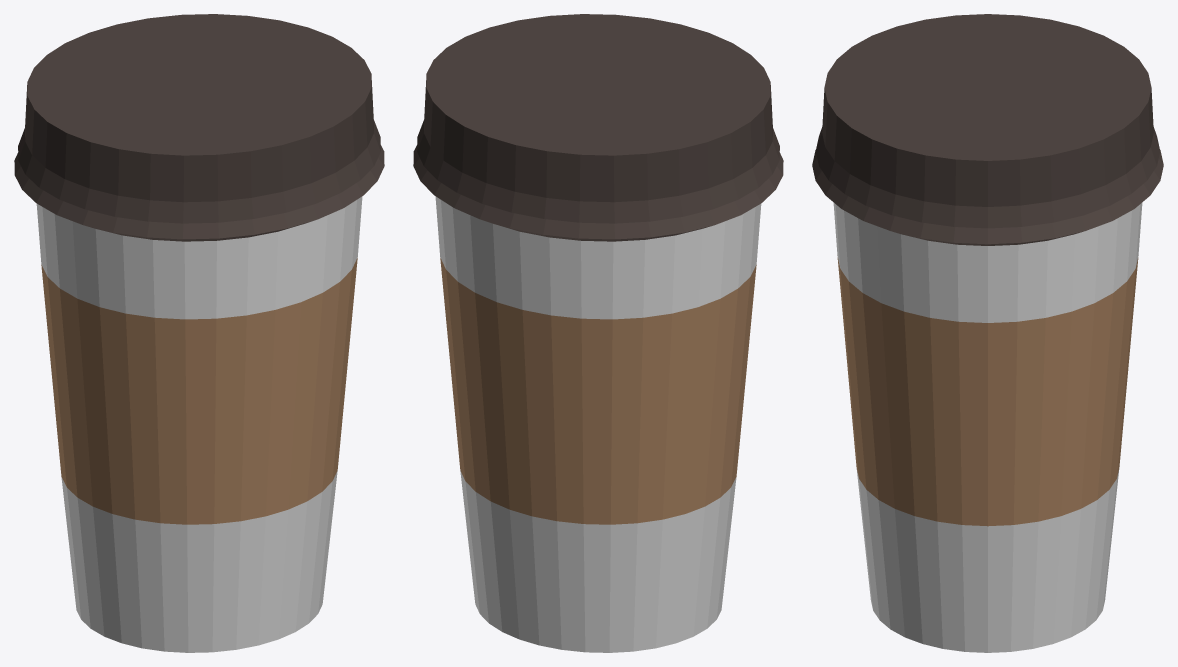
The model's file is Cafe.fbx.
3 renders of one model, left to right at view 1: azimuth 30°, elevation 25°; view 2: azimuth 150°, elevation 25°; view 3: azimuth 270°, elevation 25°, orthographic.
Parts seen in each view (by area): view 1: Coffee; view 2: Coffee; view 3: Coffee.
Boxes of the visible parts, x1=… form: Coffee: x1=14, y1=14, x2=384, y2=652; Coffee: x1=413, y1=14, x2=783, y2=652; Coffee: x1=812, y1=14, x2=1163, y2=652.
Bounding box in the file's own units: 4763 × 7212 × 4482.
